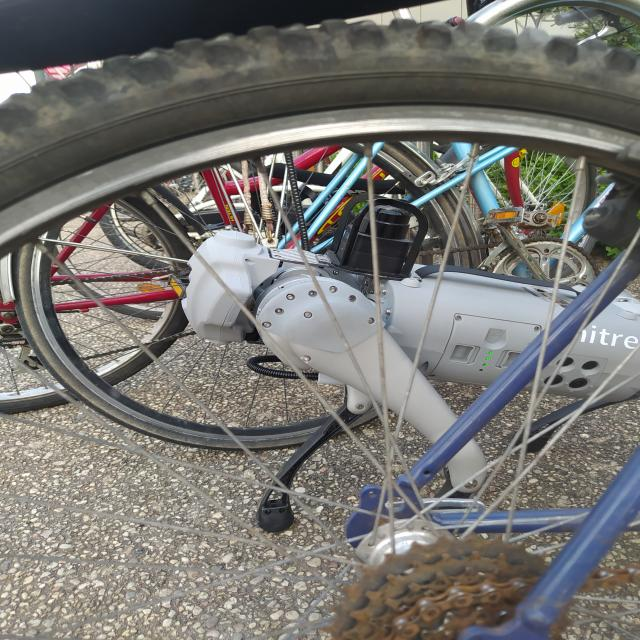unitree-go1-robot: (163, 222, 640, 545)
